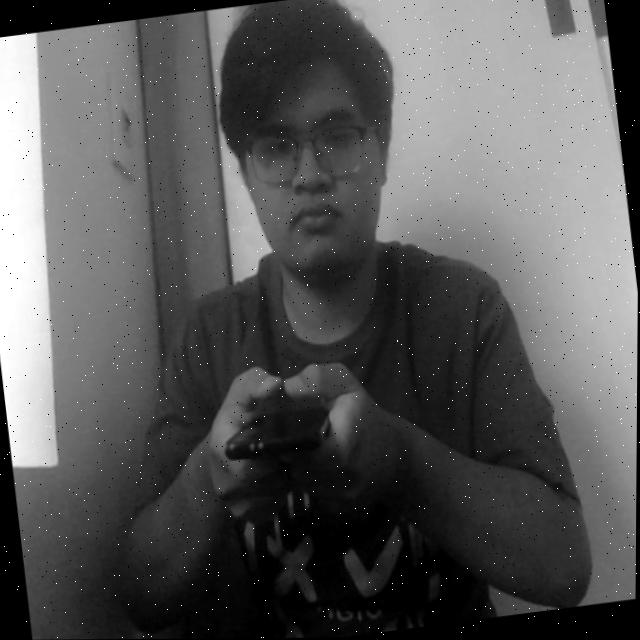phone: (204, 367, 367, 492)
